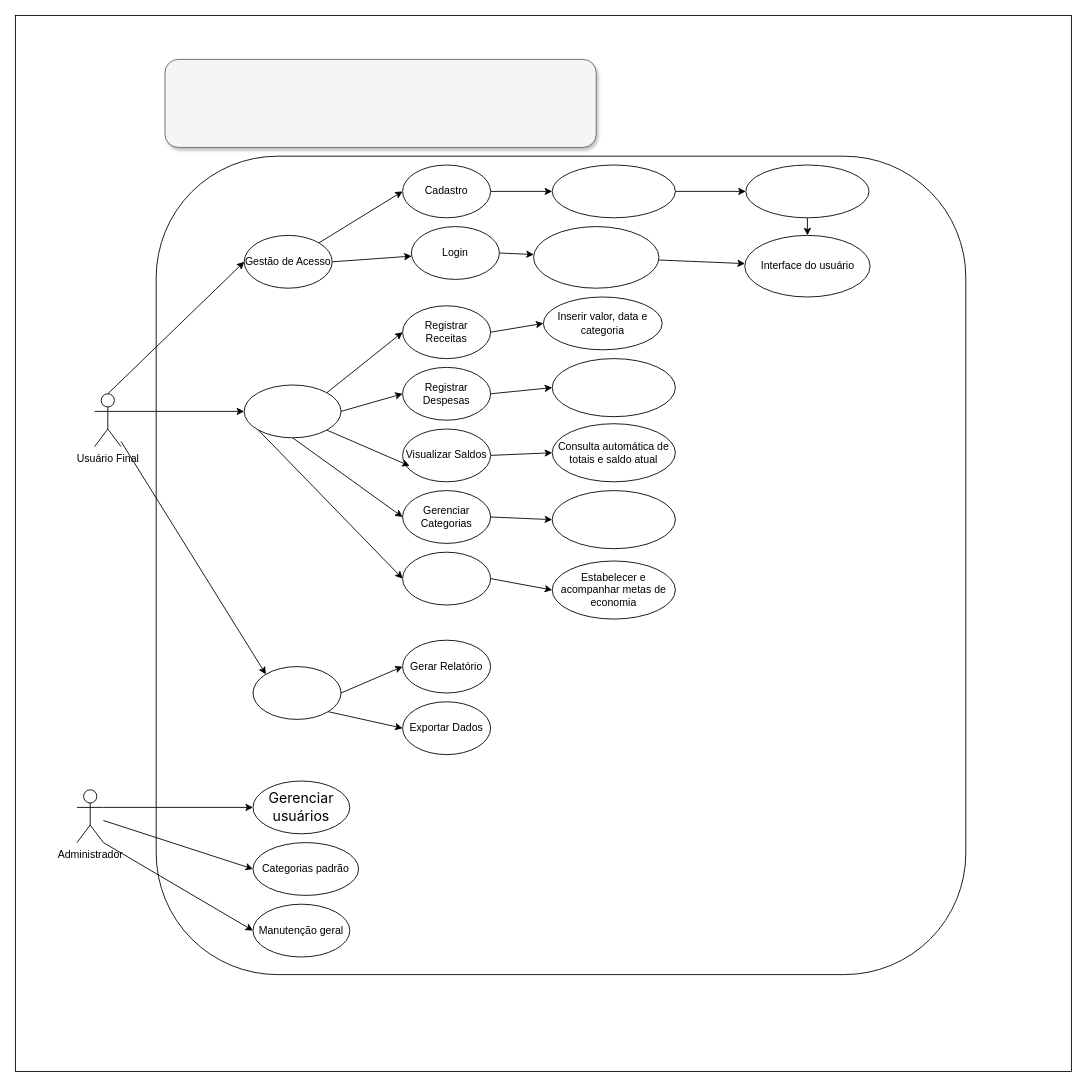
Image size: 1087x1087. Some labels were removed from this diagram. Here are the shapes that lost their labels. From the top down, the centre of each, then its label:
the point at 381,104: Projeto Fin-Flow Diagrama de Casos MCI1 - Esperança Borges e Vinícius Ledesma
the point at 613,191: Preencher formulário de cadastro
the point at 807,191: Autentica senha e usuário ou Autenticação do Google
the point at 596,257: Via e-mail/senha ou Autenticação do Google
the point at 613,387: Inserir valor, data, categoria e forma de pagamento
the point at 292,411: Gestão Financeira
the point at 613,519: Criar, editar ou excluir categorias personalizadas
the point at 446,578: Definir Metas
the point at 296,692: Análise de Dados
